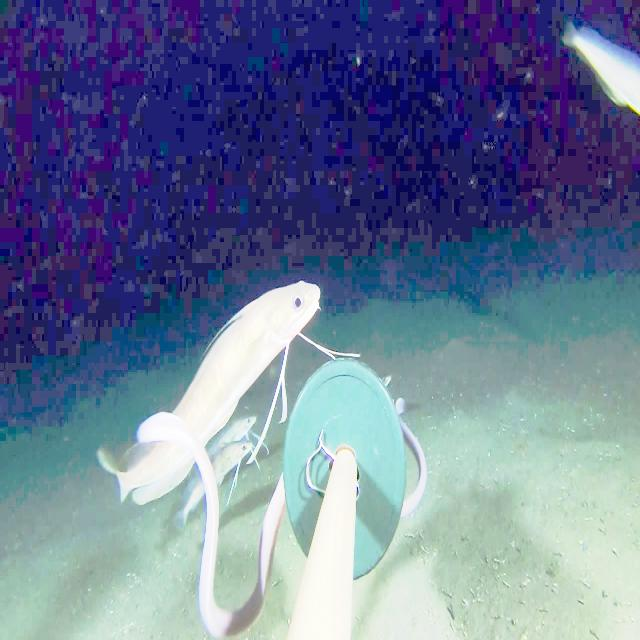eel: (132, 409, 289, 639), (393, 392, 428, 526), (134, 408, 206, 461)
fish: (71, 223, 346, 559), (167, 426, 260, 537), (558, 10, 640, 127), (179, 387, 265, 488), (371, 362, 400, 394)
pole: (280, 396, 406, 580)
